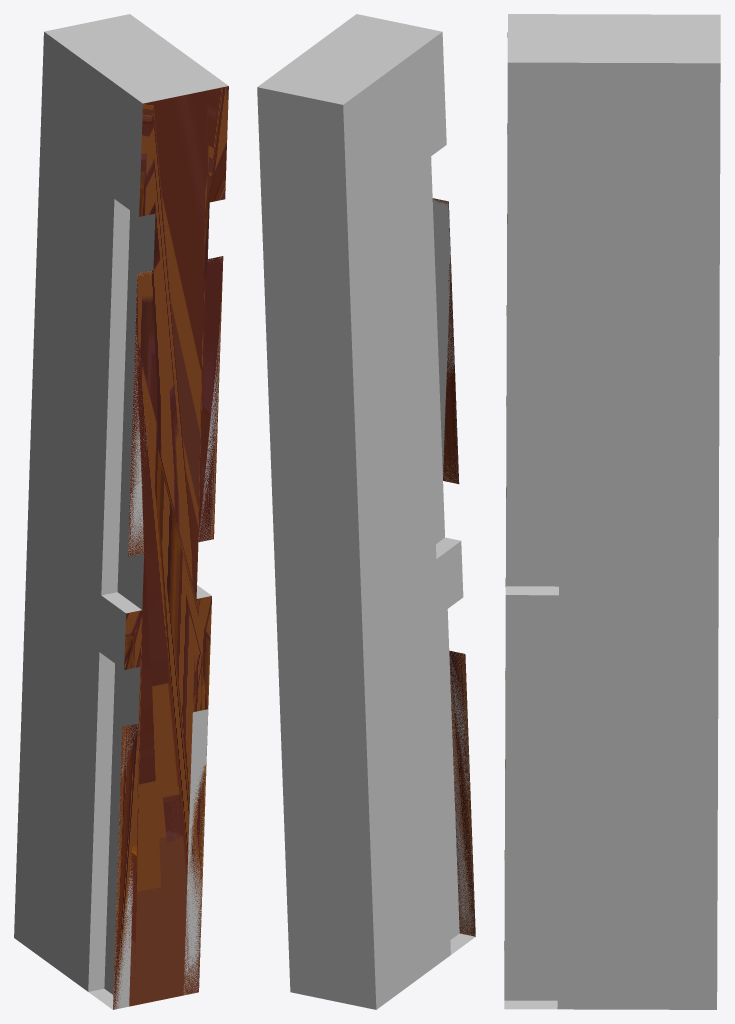
Rendered from door03.fbx.
The picture shows the model from 3 angles, left to right: view 1: azimuth 30°, elevation 25°; view 2: azimuth 150°, elevation 25°; view 3: azimuth 270°, elevation 25°; orthographic projection. The views are drawn at different scales.
Visible parts, largest first — view 1: Cube; view 2: Cube; view 3: Cube.
Part boxes in pixels (x1=…): Cube: x1=14, y1=14, x2=228, y2=1009; Cube: x1=257, y1=14, x2=475, y2=1009; Cube: x1=504, y1=14, x2=720, y2=1009.
Bounding box in the file's own units: 1.37 × 10.03 × 2.03.
Materials: 2 (1 with a texture image).
